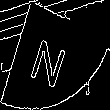N_N: (33, 23, 77, 87)
